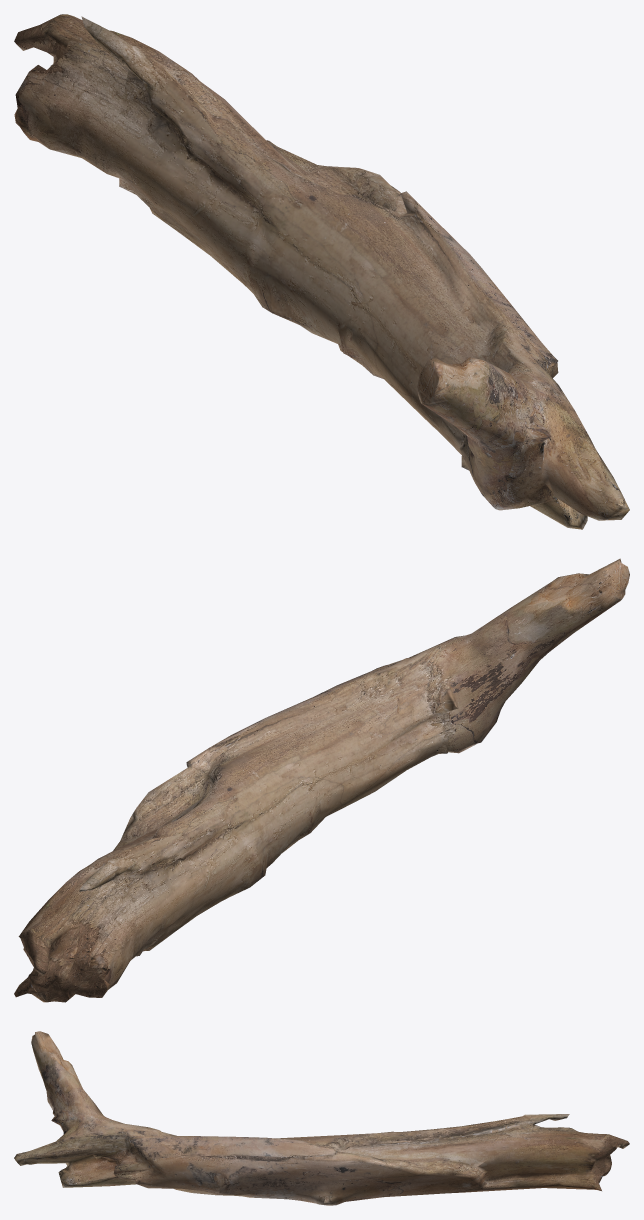
File: sm_Debris_03_01.fbx
3 views of the same model, one above another, from view 1: azimuth 30°, elevation 25°; view 2: azimuth 150°, elevation 25°; view 3: azimuth 270°, elevation 25° (orthographic). The views are drawn at different scales.
Visible parts, largest first — view 1: sm_Debris_03_01_LOD0; view 2: sm_Debris_03_01_LOD0; view 3: sm_Debris_03_01_LOD0.
Part boxes in pixels (bbox=[...]): sm_Debris_03_01_LOD0: bbox=[14, 14, 629, 529]; sm_Debris_03_01_LOD0: bbox=[14, 558, 629, 1002]; sm_Debris_03_01_LOD0: bbox=[14, 1031, 629, 1205].
Bounding box in the file's own units: 25.04 × 92.93 × 19.57.
